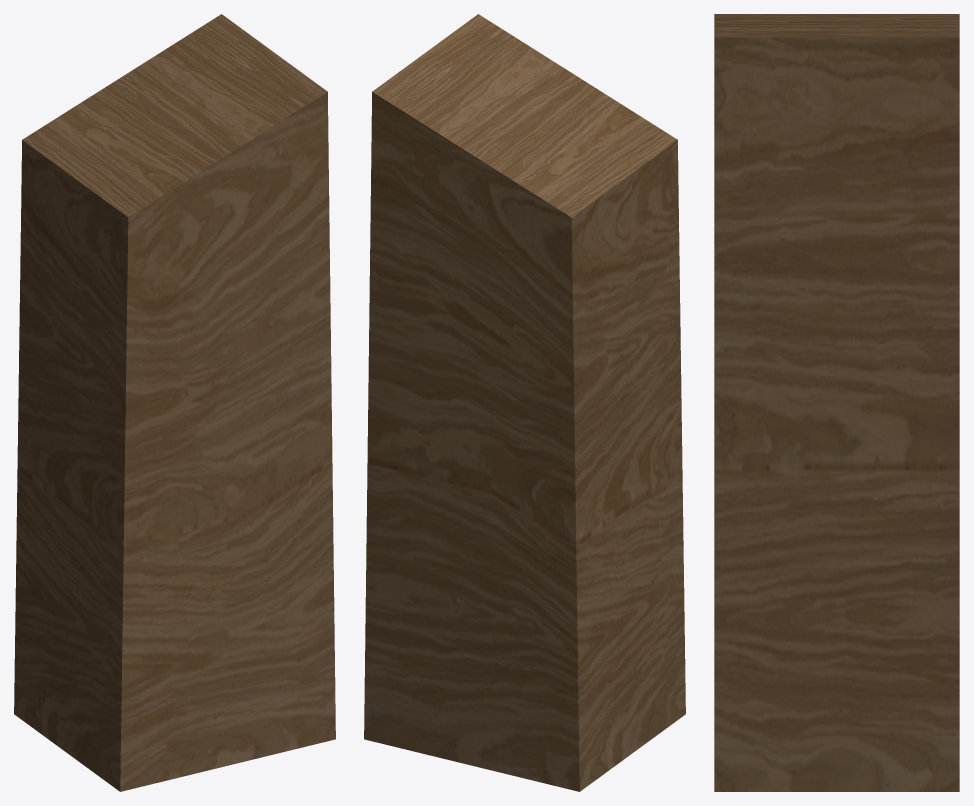
Rendered from wallclock.glb.
3 views of the same model, side by side, from view 1: azimuth 30°, elevation 25°; view 2: azimuth 150°, elevation 25°; view 3: azimuth 270°, elevation 25° (orthographic). The views are drawn at different scales.
Visible parts, largest first — view 1: shelf; view 2: shelf; view 3: shelf.
Part boxes in pixels (x1,y1,x2,y2): shelf: [14, 14, 335, 791]; shelf: [364, 14, 685, 791]; shelf: [714, 14, 959, 791].
Bounding box in the file's own units: 3.6 × 10.35 × 3.07.
Materials: 1 (1 with a texture image).
